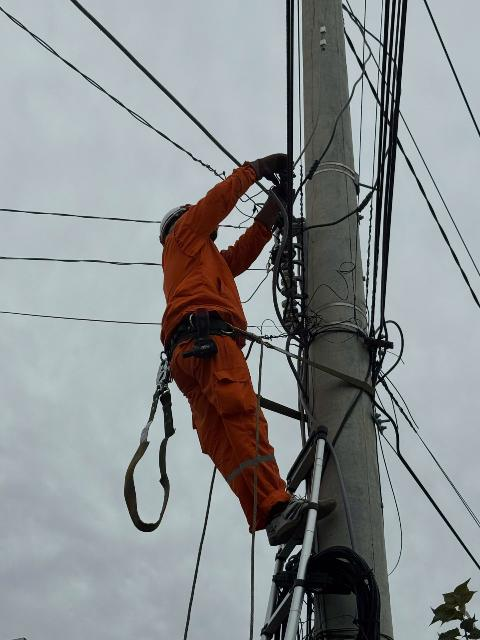gloves: (253, 187, 304, 226), (240, 152, 302, 177)
harness: (163, 316, 271, 346)
helmet: (151, 198, 224, 242)
shoes: (268, 492, 341, 547)
